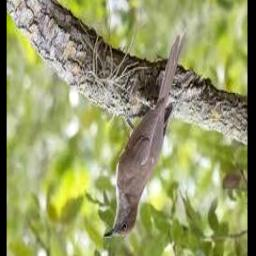Cuckoo: (104, 29, 187, 239)
